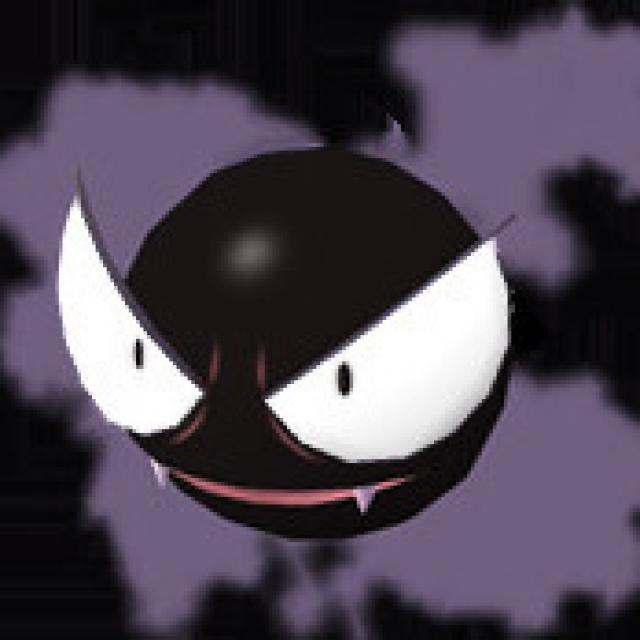Gastly: (66, 155, 540, 518)
